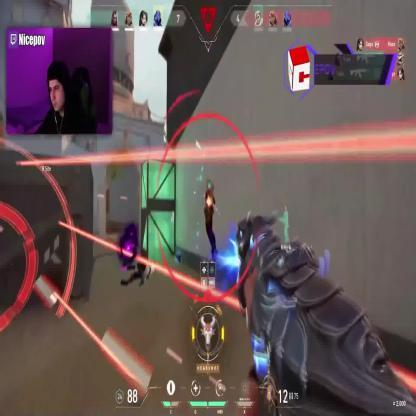enemy: (204, 180, 220, 262)
enemy_head: (206, 180, 214, 196)
